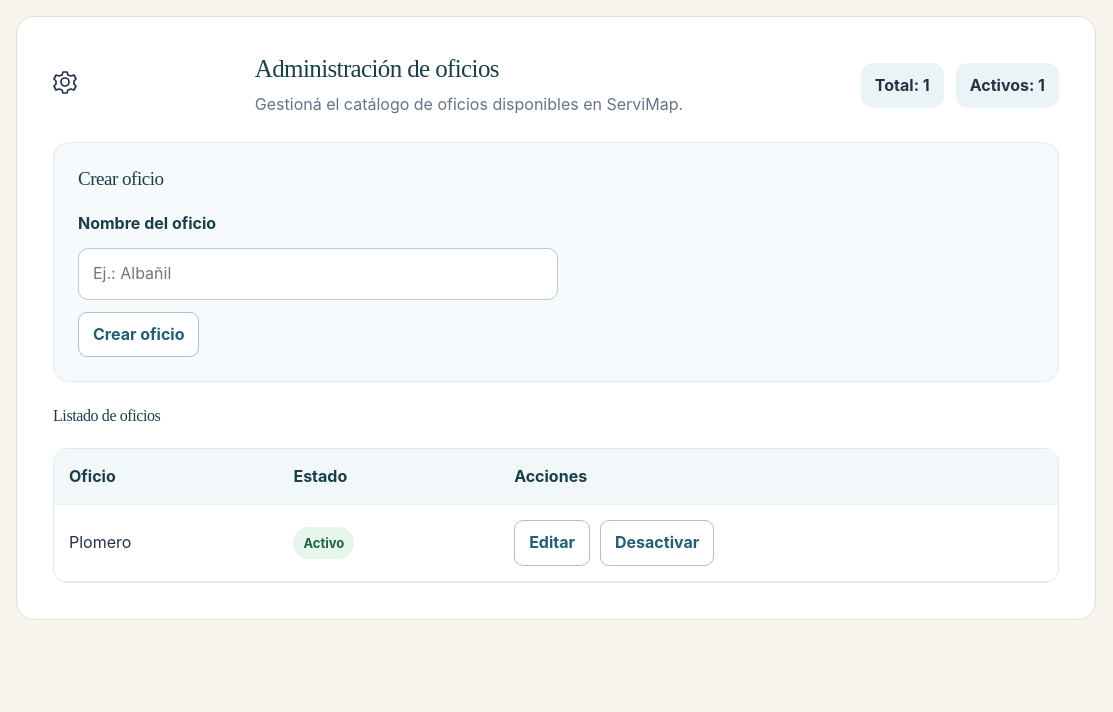
Administración remota de oficios › desactiva y activa con PATCH sin borrar el oficio
Expected: the text "Plomero" is shown, [54,505,278,581]
Click the button with aria-label "Desactivar Plomero" at (657, 543), box [600,520,714,566]
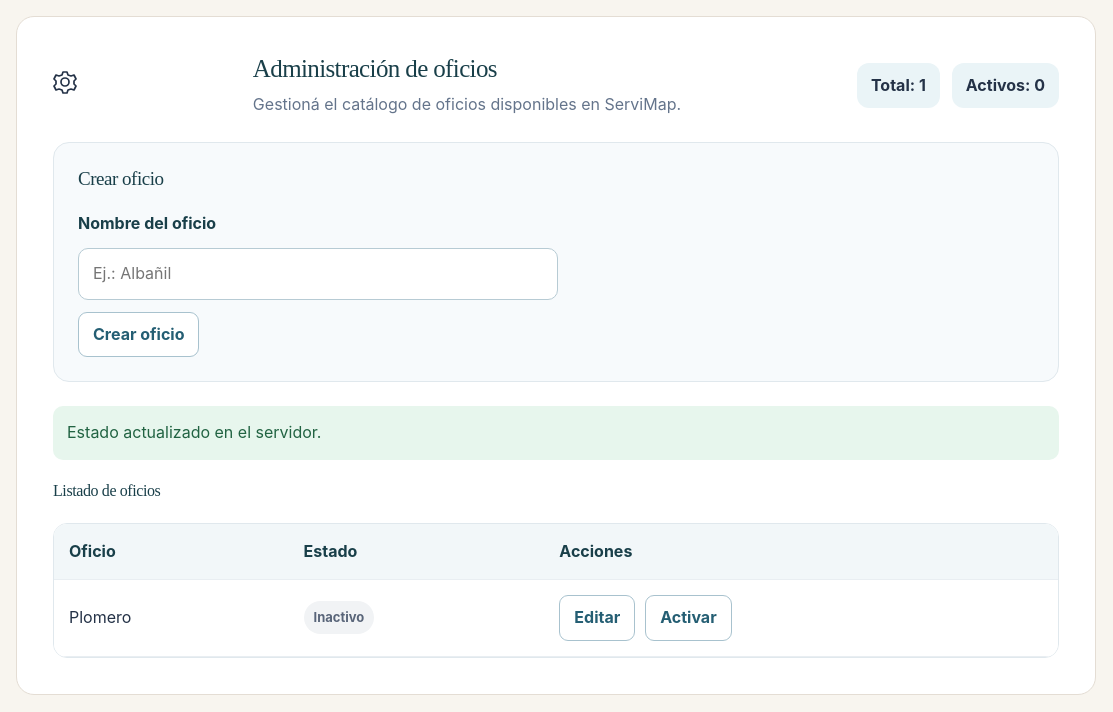
Click the button with aria-label "Activar Plomero" at (688, 618), box [645,595,732,641]
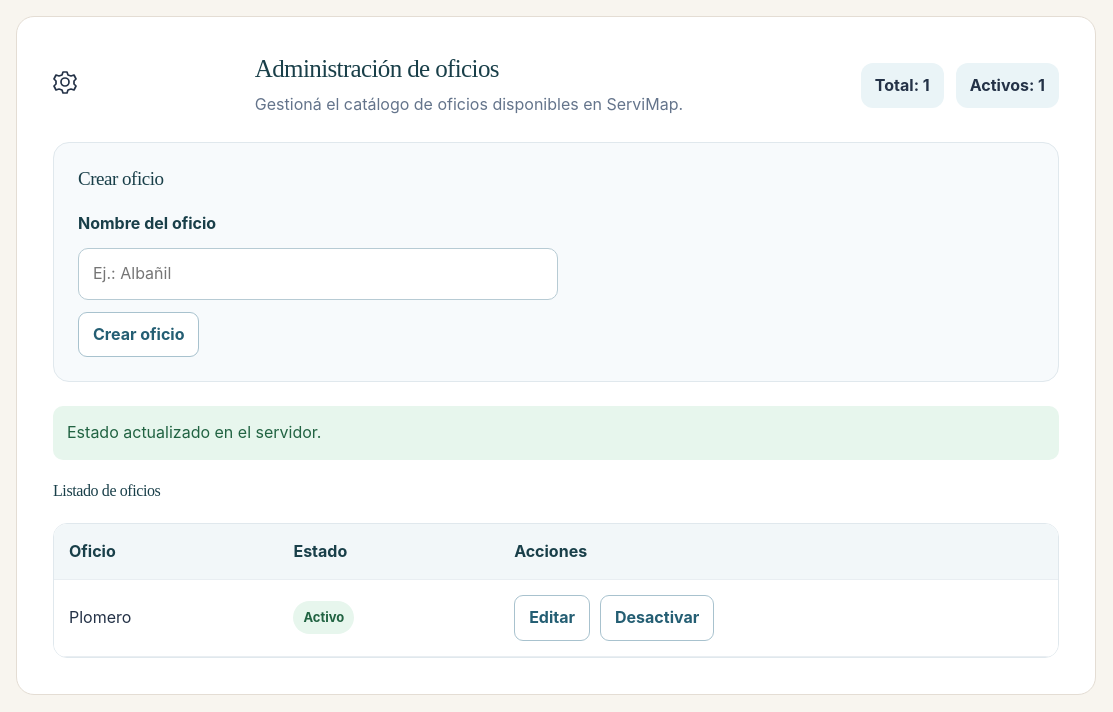
Now the button with aria-label "Desactivar Plomero" is shown, box [600,595,714,641]
